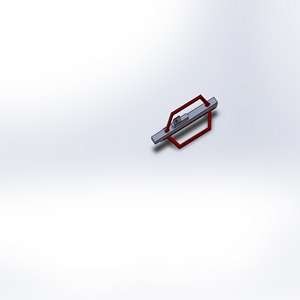submarine: (146, 84, 234, 174)
